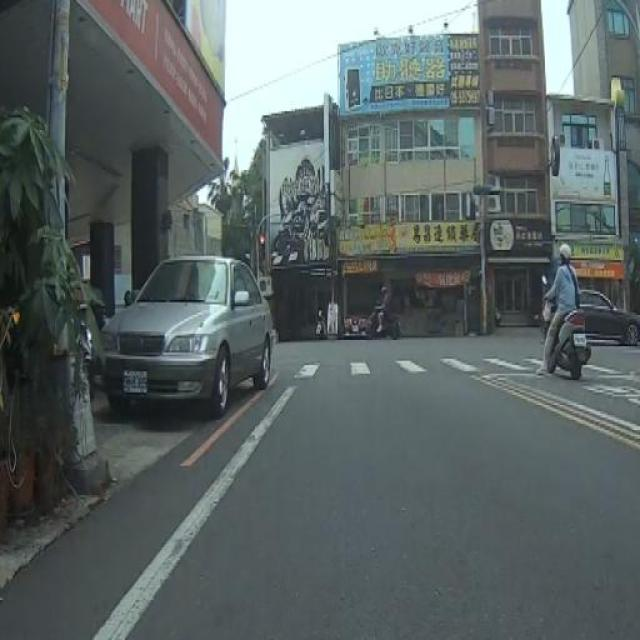illegalparking: (86, 233, 317, 448)
